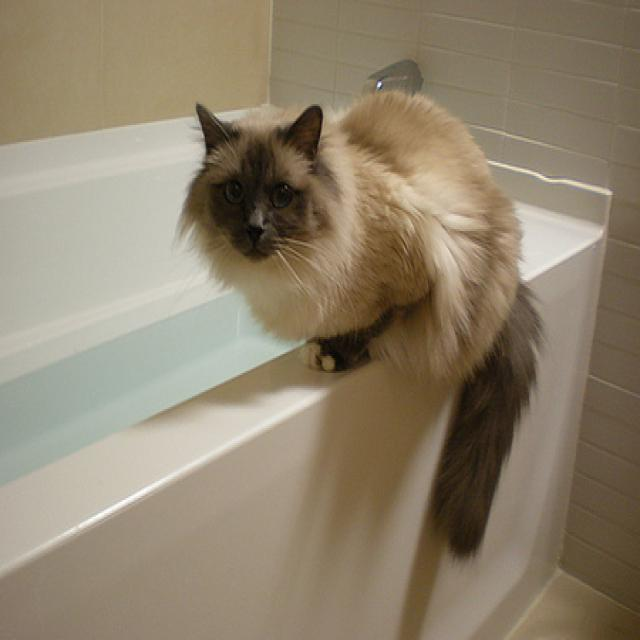Birman: (174, 84, 541, 563)
